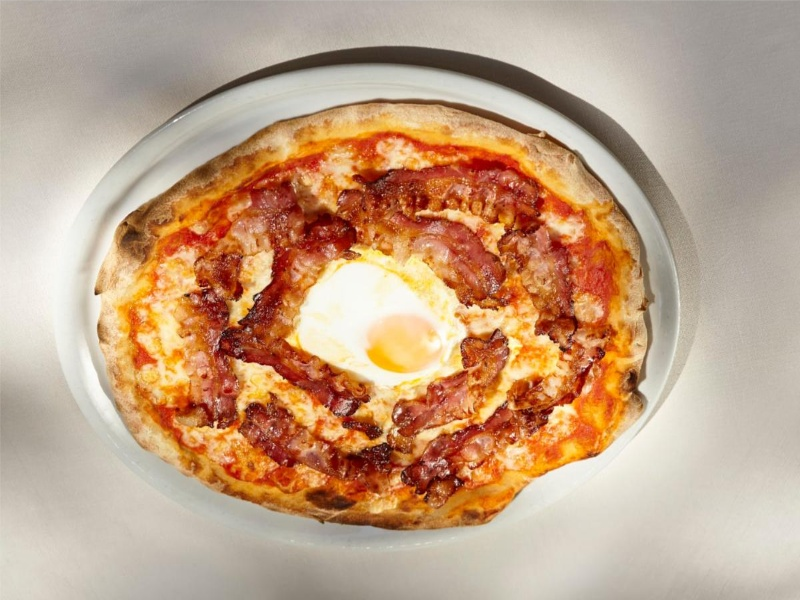oeuf: (335, 287, 453, 388)
